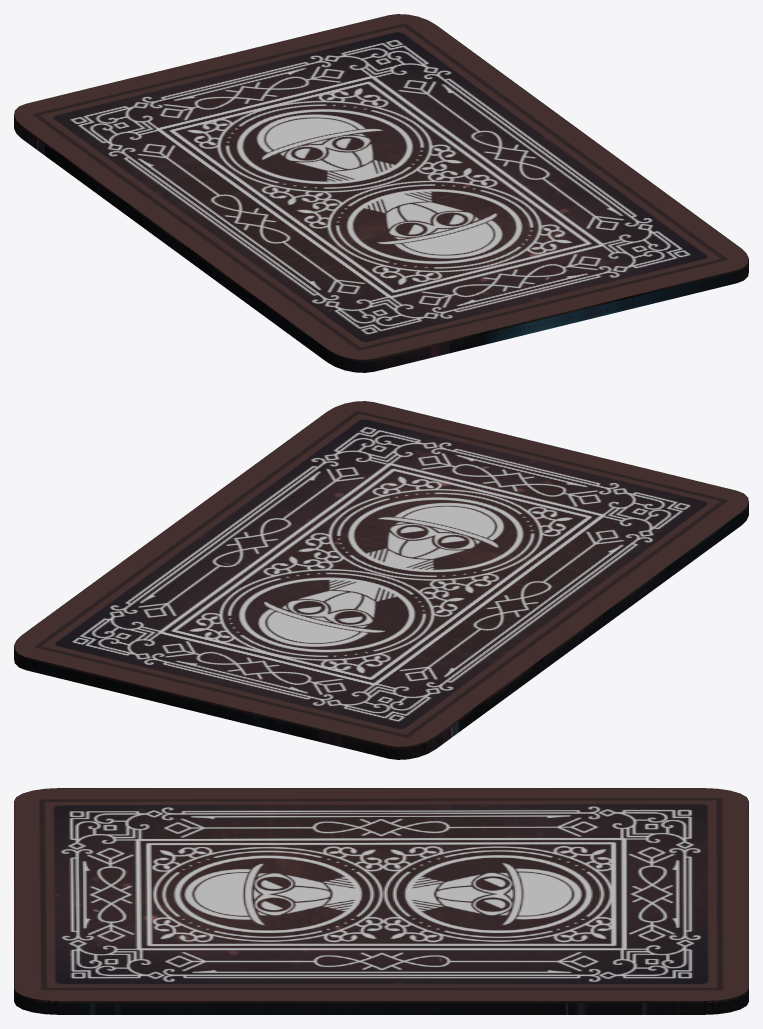
The model's file is twoofswords_tarot.glb.
3 renders of one model, top to bottom at view 1: azimuth 30°, elevation 25°; view 2: azimuth 150°, elevation 25°; view 3: azimuth 270°, elevation 25°, orthographic. The views are drawn at different scales.
Visible parts, largest first — view 1: Plane.002, Plane.001; view 2: Plane.002, Plane.001; view 3: Plane.002, Plane.001.
Boxes of the visible parts, x1,y1,x2,y2 form: Plane.002: (14, 14, 748, 370); Plane.001: (14, 118, 748, 372); Plane.002: (14, 401, 748, 756); Plane.001: (14, 505, 748, 759); Plane.002: (14, 788, 748, 1012); Plane.001: (14, 990, 748, 1014).
Bounding box in the file's own units: 2.28 × 0.0684 × 3.32.
2 materials, 2 textured.
